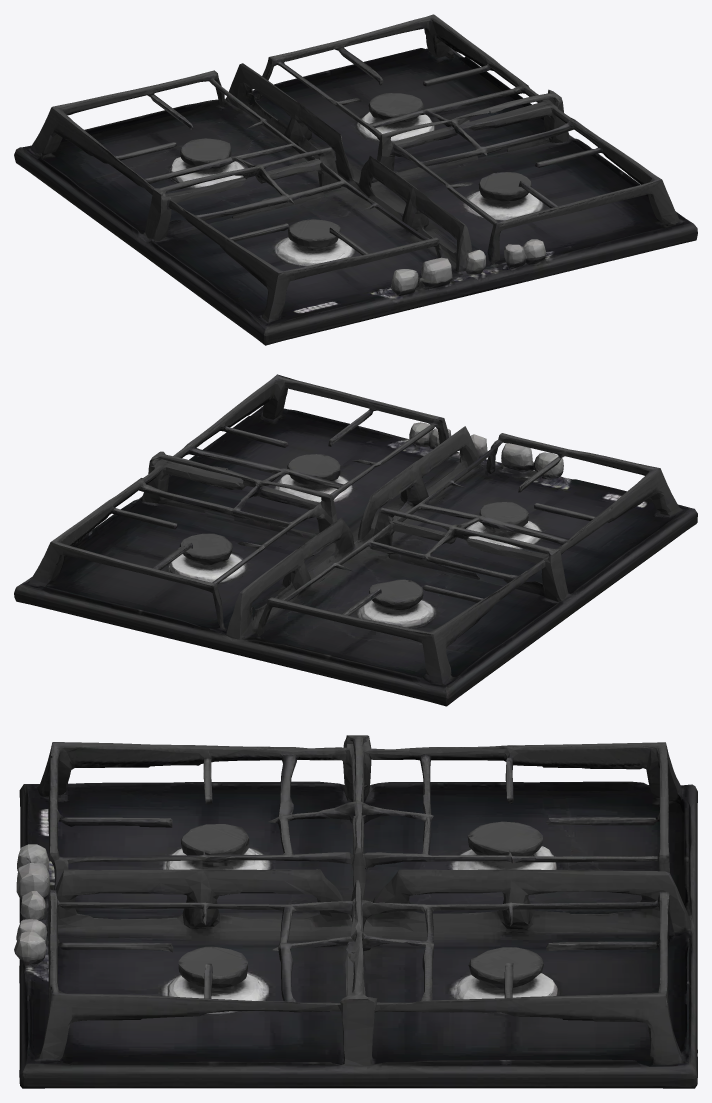
3 renders of one model, top to bottom at view 1: azimuth 30°, elevation 25°; view 2: azimuth 150°, elevation 25°; view 3: azimuth 270°, elevation 25°, orthographic. The views are drawn at different scales.
Parts seen in each view (by area): view 1: world; view 2: world; view 3: world.
Boxes of the visible parts, x1,y1,x2,y2 form: world: [14, 14, 697, 345]; world: [14, 374, 697, 706]; world: [14, 735, 697, 1088].
Size of the model in its own units: 0.6705 by 0.0911 by 0.6758.
Materials: 1 (1 with a texture image).
